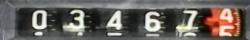digits: (174, 9, 200, 36), (61, 8, 85, 36), (105, 9, 125, 36), (143, 10, 165, 31), (31, 10, 48, 29), (219, 8, 233, 23)
